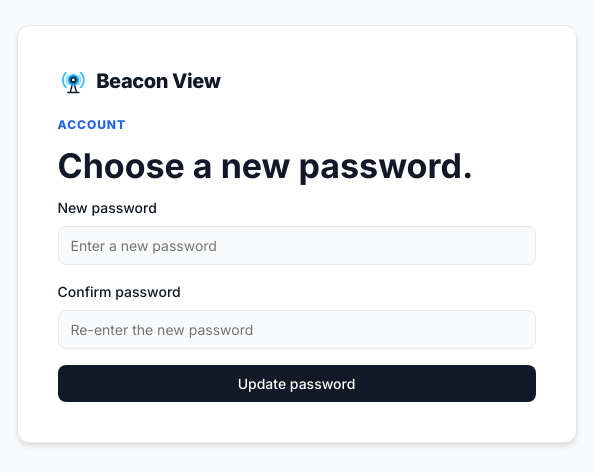
it: surfaces the server error for an expired or reused token
Type "a brand new password" into the password field labelled "New password". click: (296, 246)
box: [58,226,536,265]
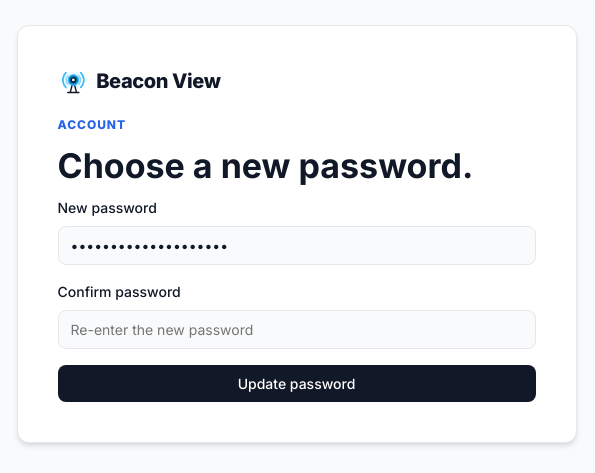
Type "a brand new password" into the password field labelled "Confirm password". click: (296, 330)
box: [58,310,536,349]
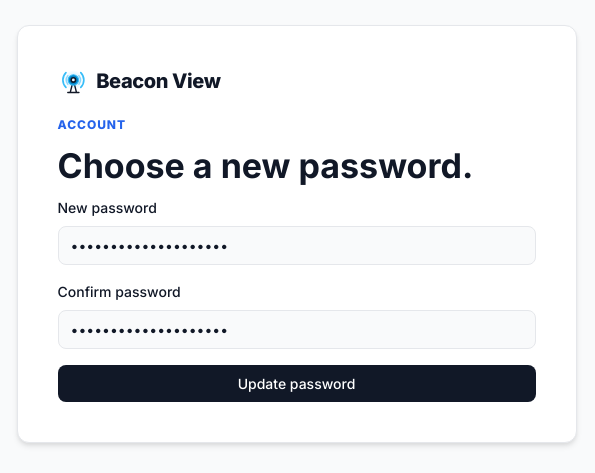
Click the button "Update password". click: (296, 384)
box: [58,365,536,402]
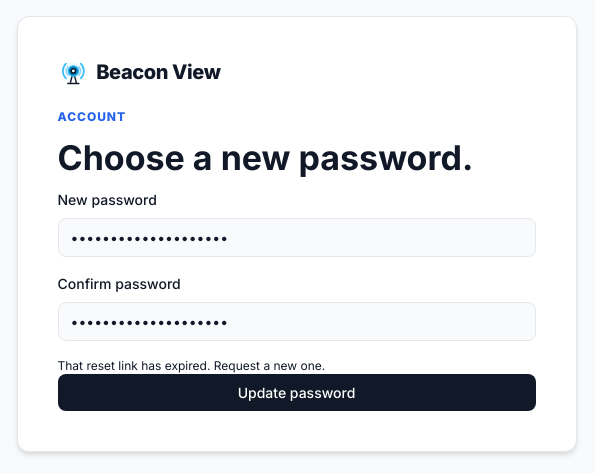
expect the message reads "That reset link has expired. Request a new one.": met, box [58,358,325,373]
